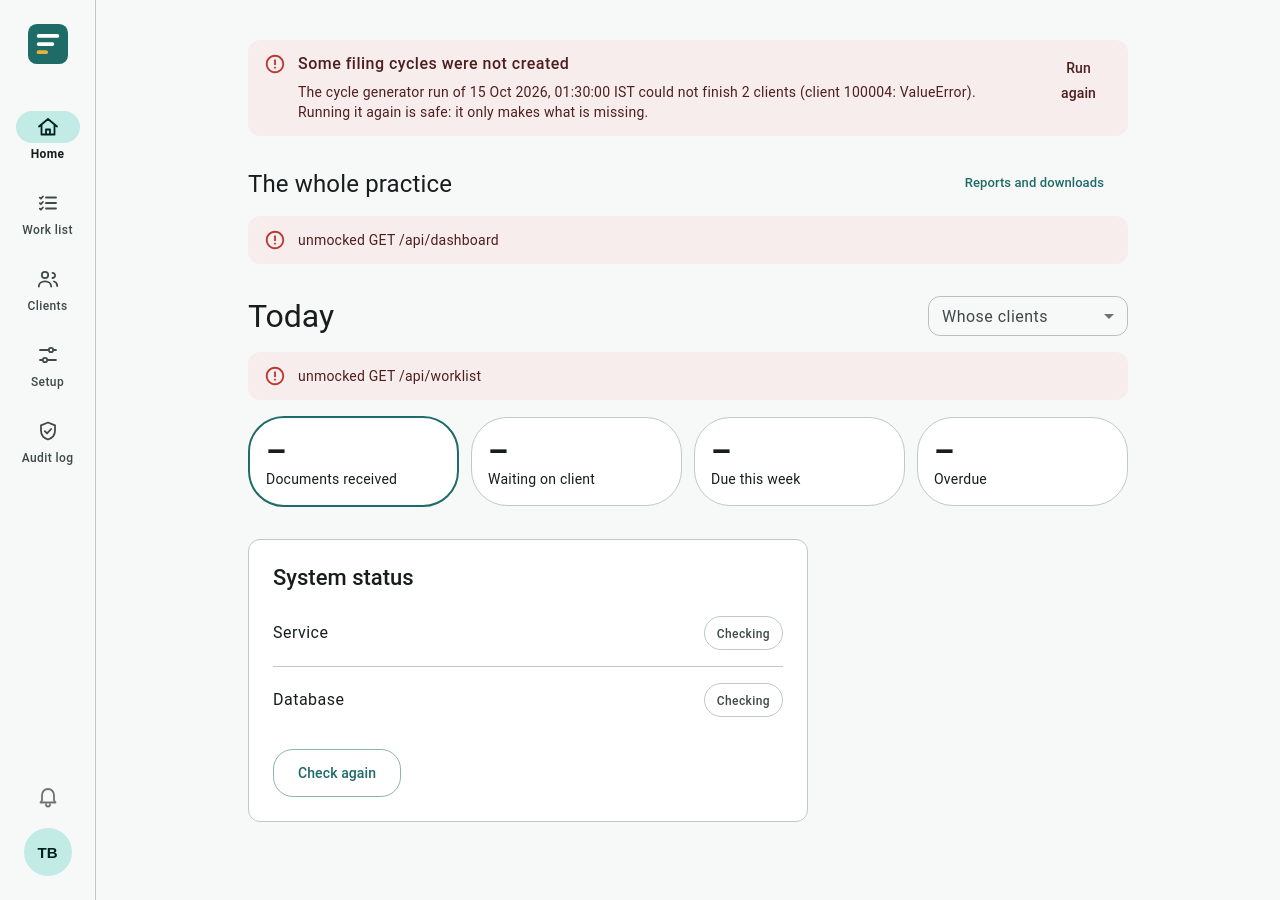
Test: Cycle generator alarm › warns the Administrator and runs the generator again on request
expect the text "Some filing cycles were not created" shows "could not finish 2 clients (client 100004: ValueError)": met, box [248,40,1128,136]
Click the button "Run again".
click(1078, 80)  # box [1037,50,1120,111]
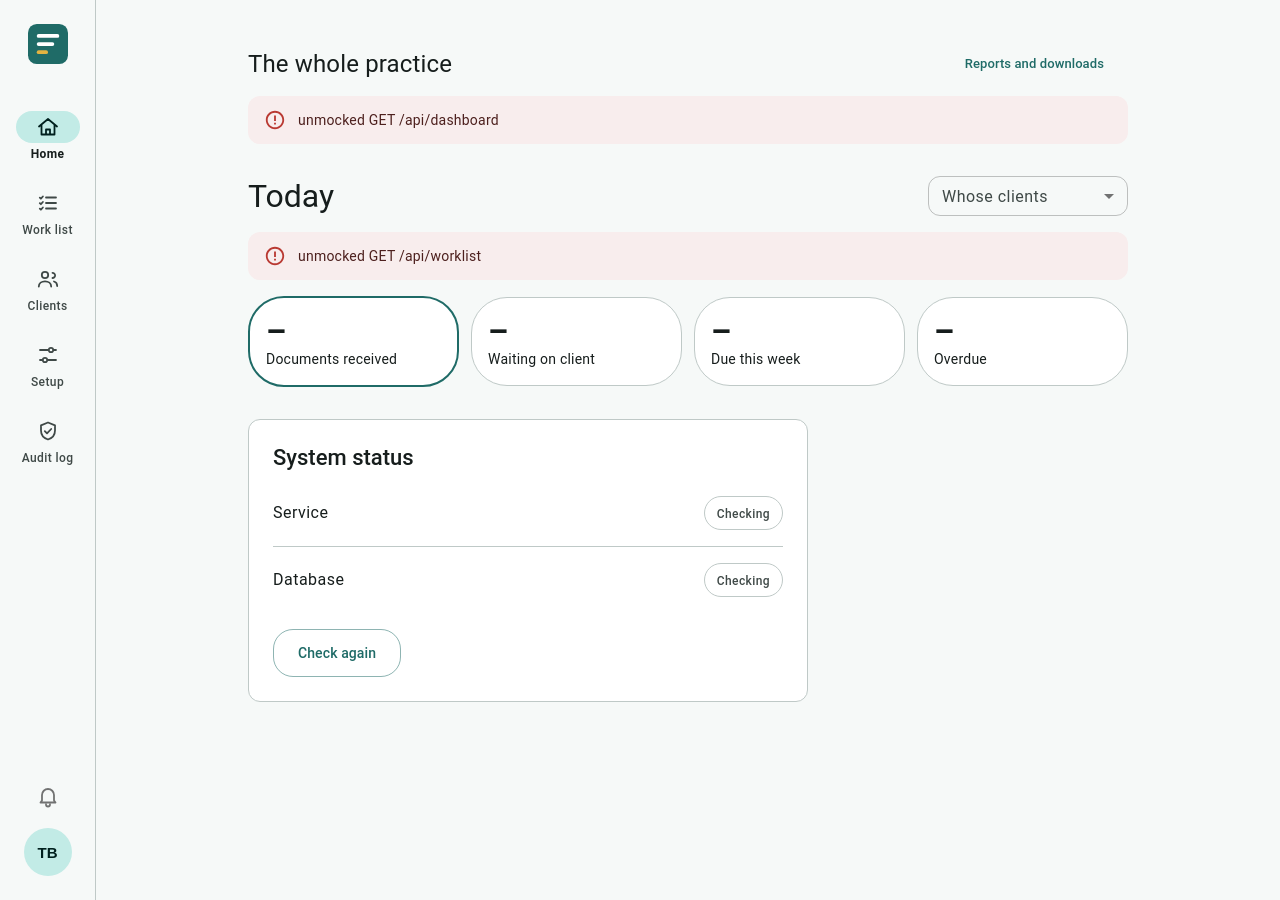
expect the text "Some filing cycles were not created" is gone: met
